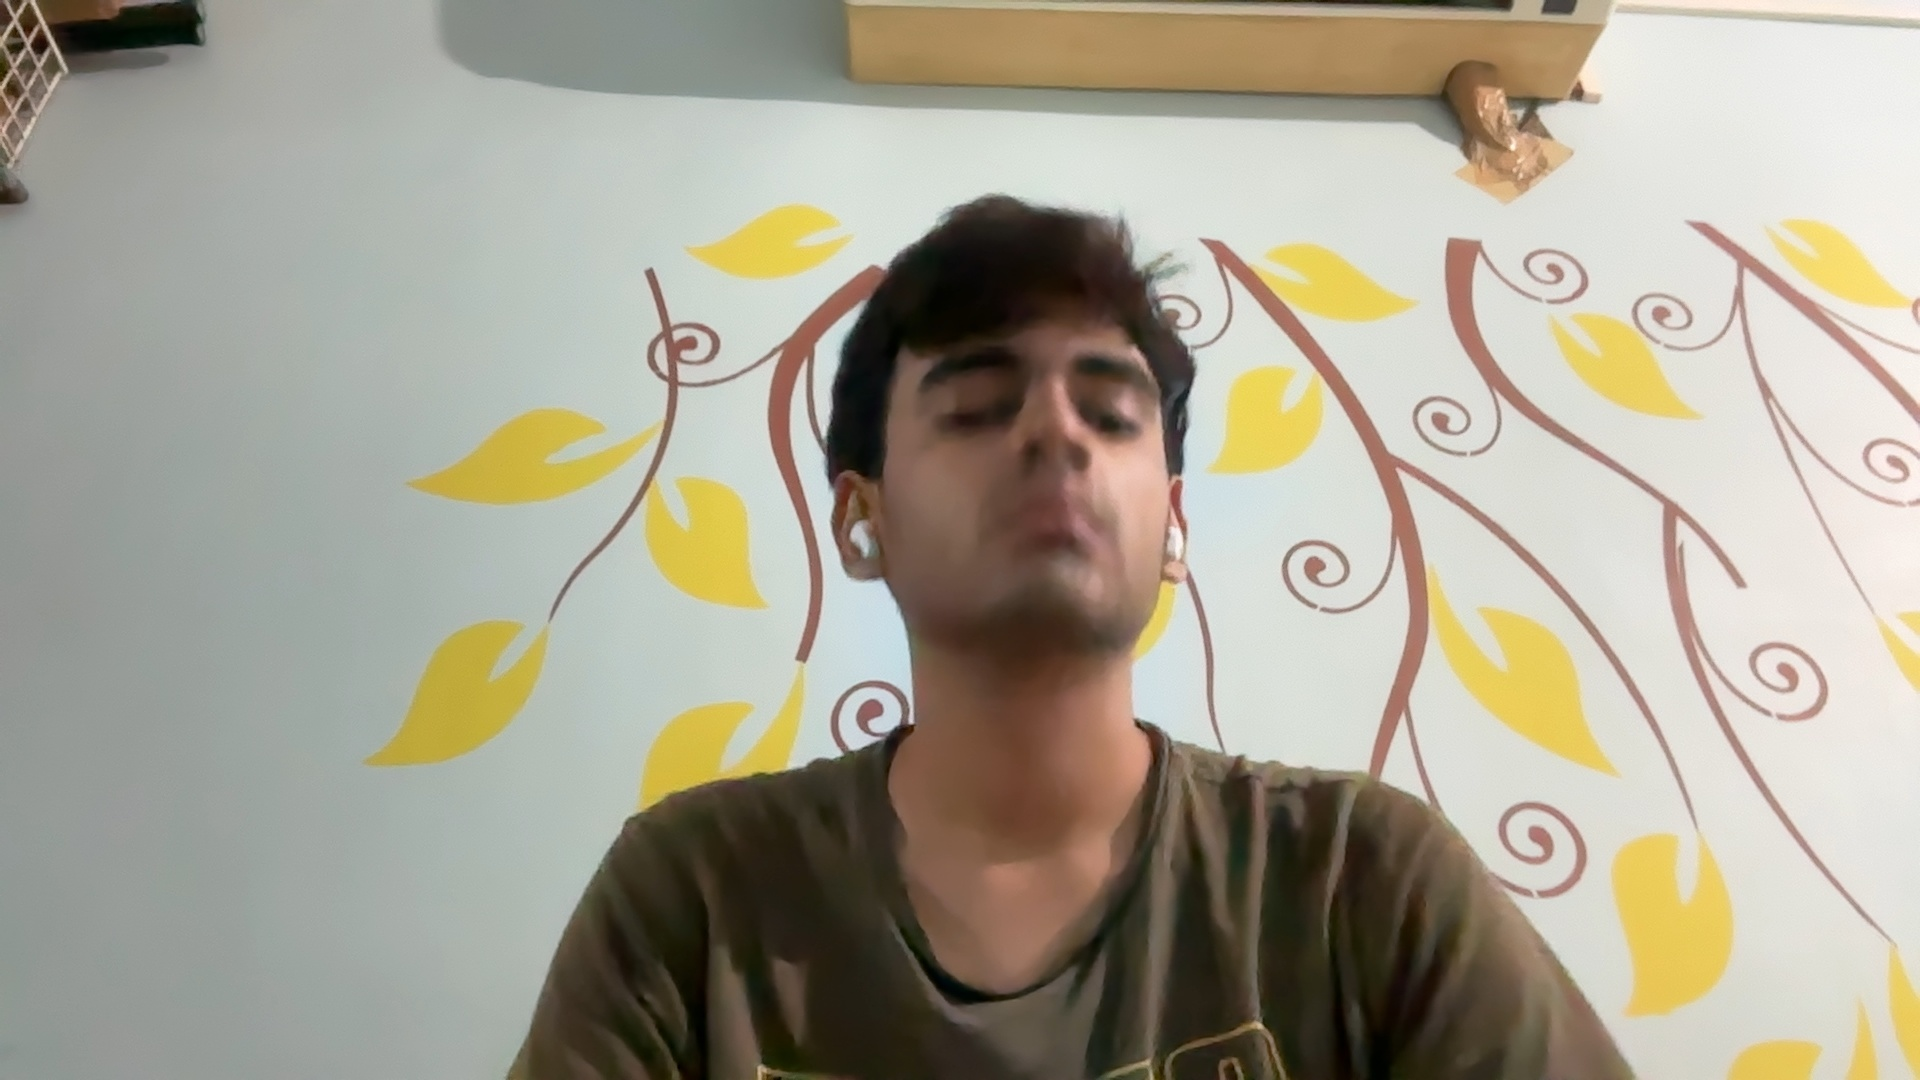No Mask: (887, 423, 1175, 673)
